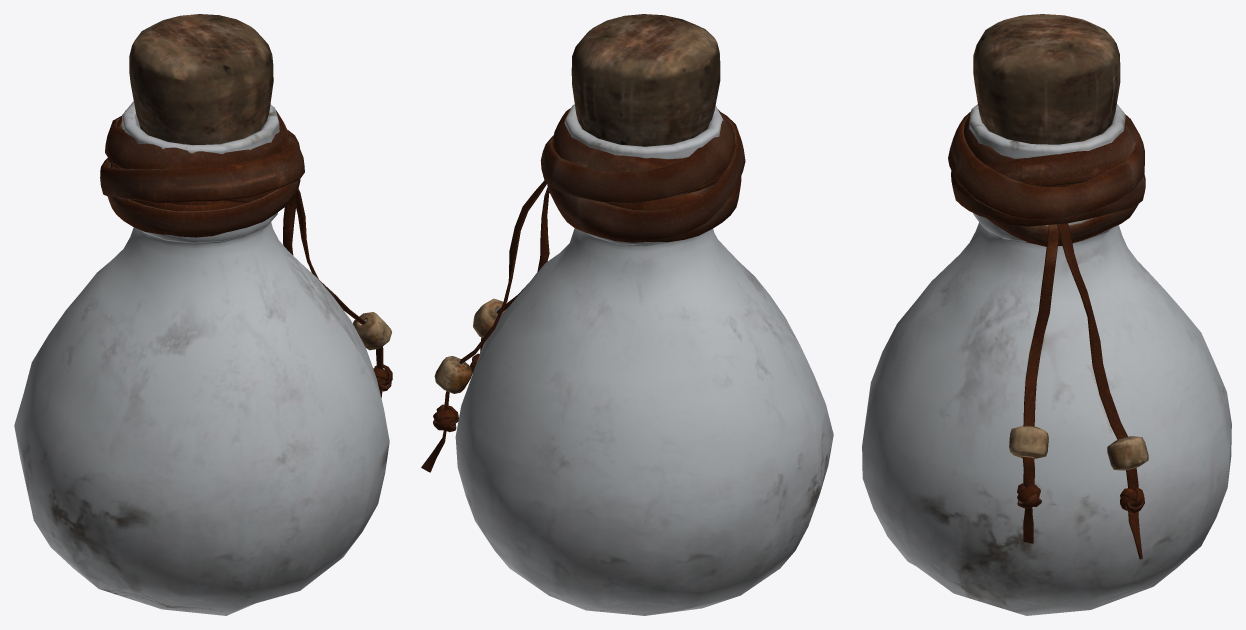
File: Bottle02.fbx
3 renders of one model, left to right at view 1: azimuth 30°, elevation 25°; view 2: azimuth 150°, elevation 25°; view 3: azimuth 270°, elevation 25°, orthographic.
Parts seen in each view (by area): view 1: KuJ AL Bottle 02.Shape; view 2: KuJ AL Bottle 02.Shape; view 3: KuJ AL Bottle 02.Shape.
Boxes of the visible parts, <box> form: KuJ AL Bottle 02.Shape: <box>14,14,392,615</box>; KuJ AL Bottle 02.Shape: <box>421,14,833,615</box>; KuJ AL Bottle 02.Shape: <box>862,14,1231,615</box>.
Bounding box in the file's own units: 21.65 × 33.62 × 20.39.
3 materials, 2 textured.
